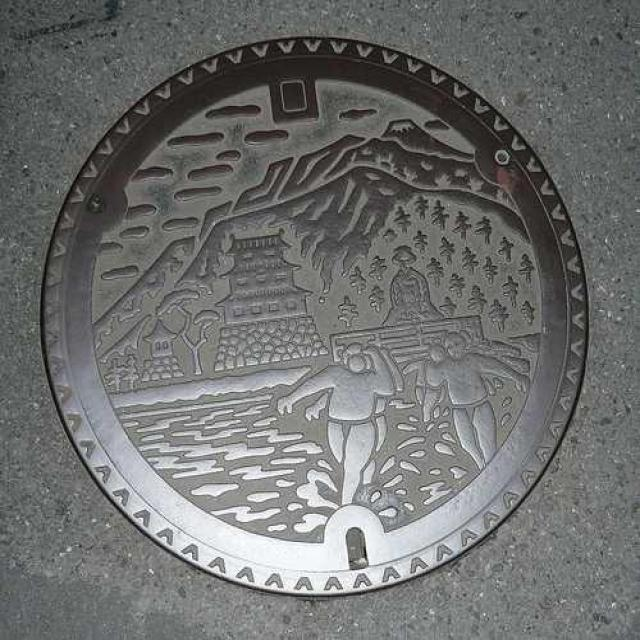manhole: (42, 37, 587, 597)
